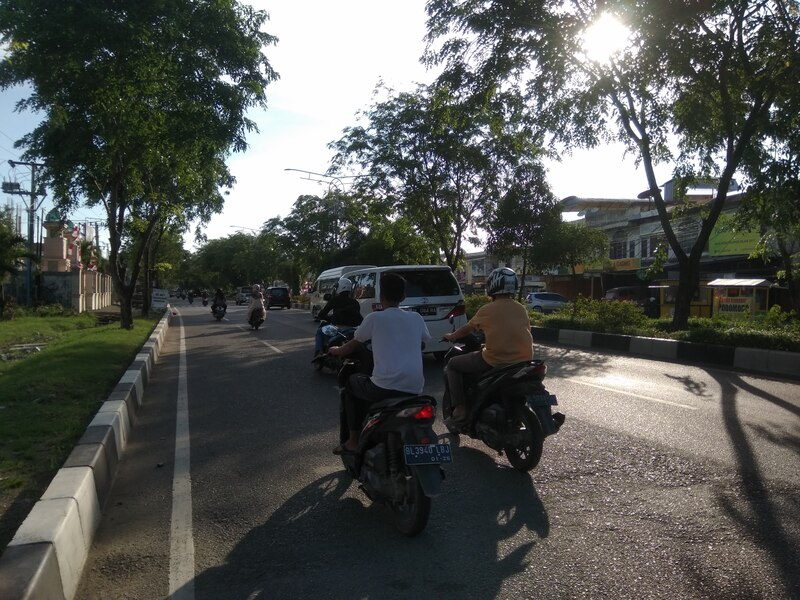car: (335, 264, 471, 371), (308, 265, 388, 330), (263, 284, 295, 314)
motorcycle: (310, 321, 460, 543), (439, 331, 572, 476), (311, 310, 367, 379), (247, 301, 268, 332), (209, 296, 229, 324)
